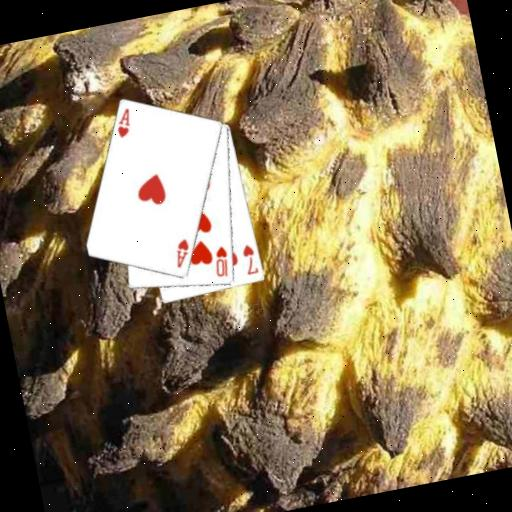10H: (209, 242, 234, 280)
7H: (239, 241, 261, 277)
AH: (111, 105, 136, 141), (170, 235, 195, 270)
